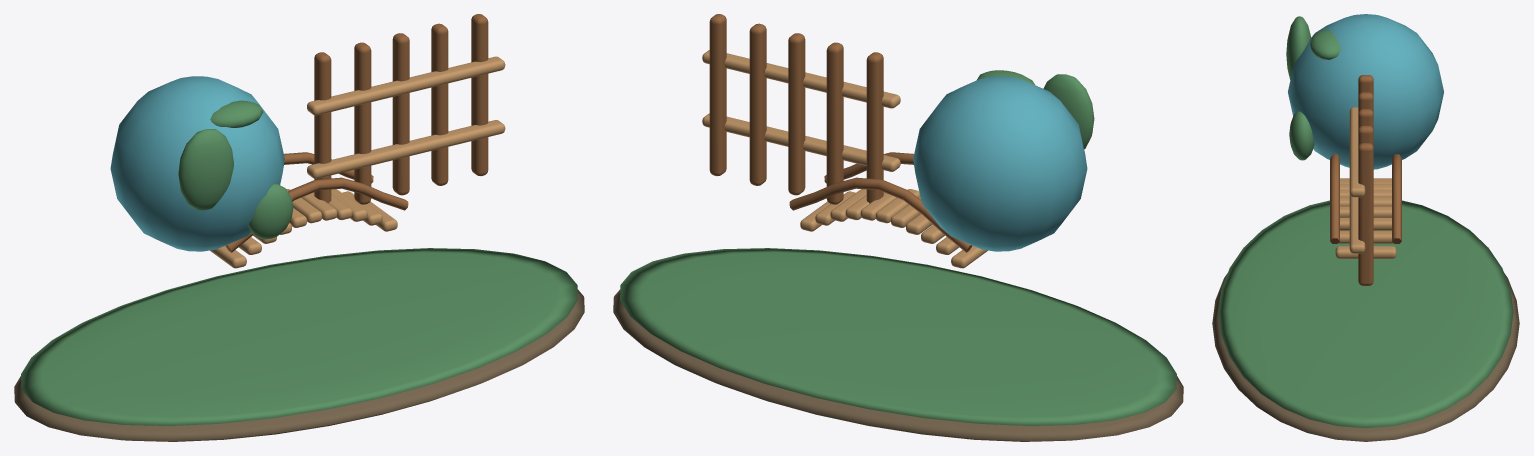
The model's file is complete-second-country-border.glb.
3 renders of one model, left to right at view 1: azimuth 30°, elevation 25°; view 2: azimuth 150°, elevation 25°; view 3: azimuth 270°, elevation 25°, orthographic. The views are drawn at different scales.
Parts seen in each view (by area): view 1: complete-second-country-border_surface_01, complete-second-country-border_surface_02, complete-second-country-border_surface_03, complete-second-country-border_surface_00, complete-second-country-border_surface_04; view 2: complete-second-country-border_surface_01, complete-second-country-border_surface_02, complete-second-country-border_surface_03, complete-second-country-border_surface_00, complete-second-country-border_surface_04; view 3: complete-second-country-border_surface_01, complete-second-country-border_surface_02, complete-second-country-border_surface_00, complete-second-country-border_surface_03, complete-second-country-border_surface_04.
Boxes of the visible parts, x1,y1,x2,y2 form: complete-second-country-border_surface_01: [21, 100, 577, 425]; complete-second-country-border_surface_02: [110, 76, 284, 251]; complete-second-country-border_surface_03: [226, 14, 488, 252]; complete-second-country-border_surface_00: [14, 289, 584, 441]; complete-second-country-border_surface_04: [210, 56, 505, 268]; complete-second-country-border_surface_01: [620, 70, 1176, 425]; complete-second-country-border_surface_02: [913, 76, 1087, 251]; complete-second-country-border_surface_03: [709, 14, 971, 252]; complete-second-country-border_surface_00: [613, 289, 1183, 441]; complete-second-country-border_surface_04: [702, 50, 987, 268]; complete-second-country-border_surface_01: [1218, 16, 1513, 428]; complete-second-country-border_surface_02: [1288, 14, 1443, 169]; complete-second-country-border_surface_00: [1212, 273, 1519, 441]; complete-second-country-border_surface_03: [1330, 75, 1401, 285]; complete-second-country-border_surface_04: [1335, 107, 1396, 258].
Size of the model in its own units: 4.56 by 2.45 by 2.5.
